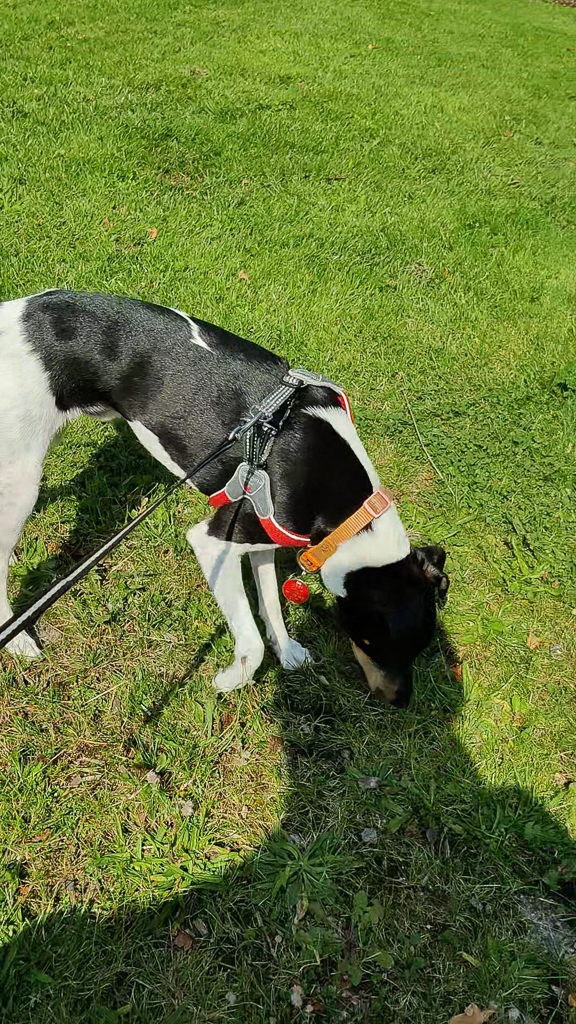Dog: (0, 256, 466, 741)
